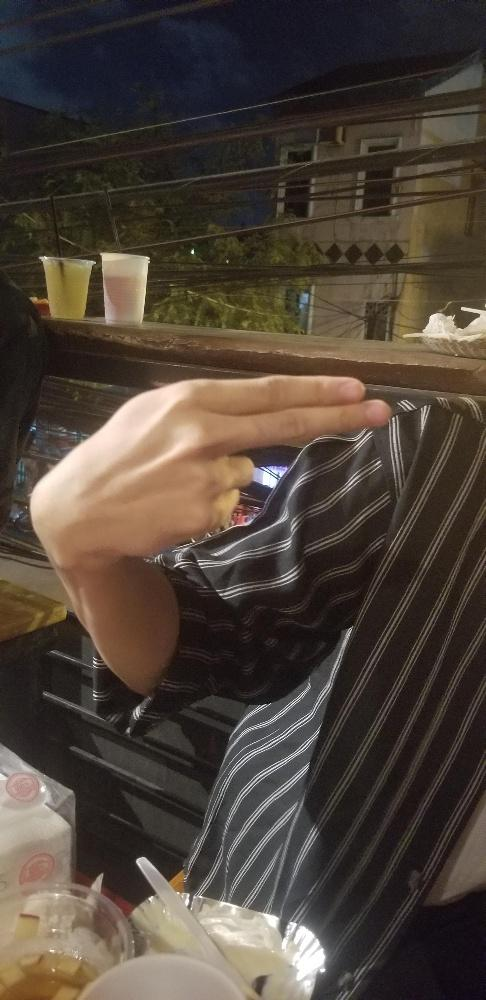h: (25, 365, 388, 564)
